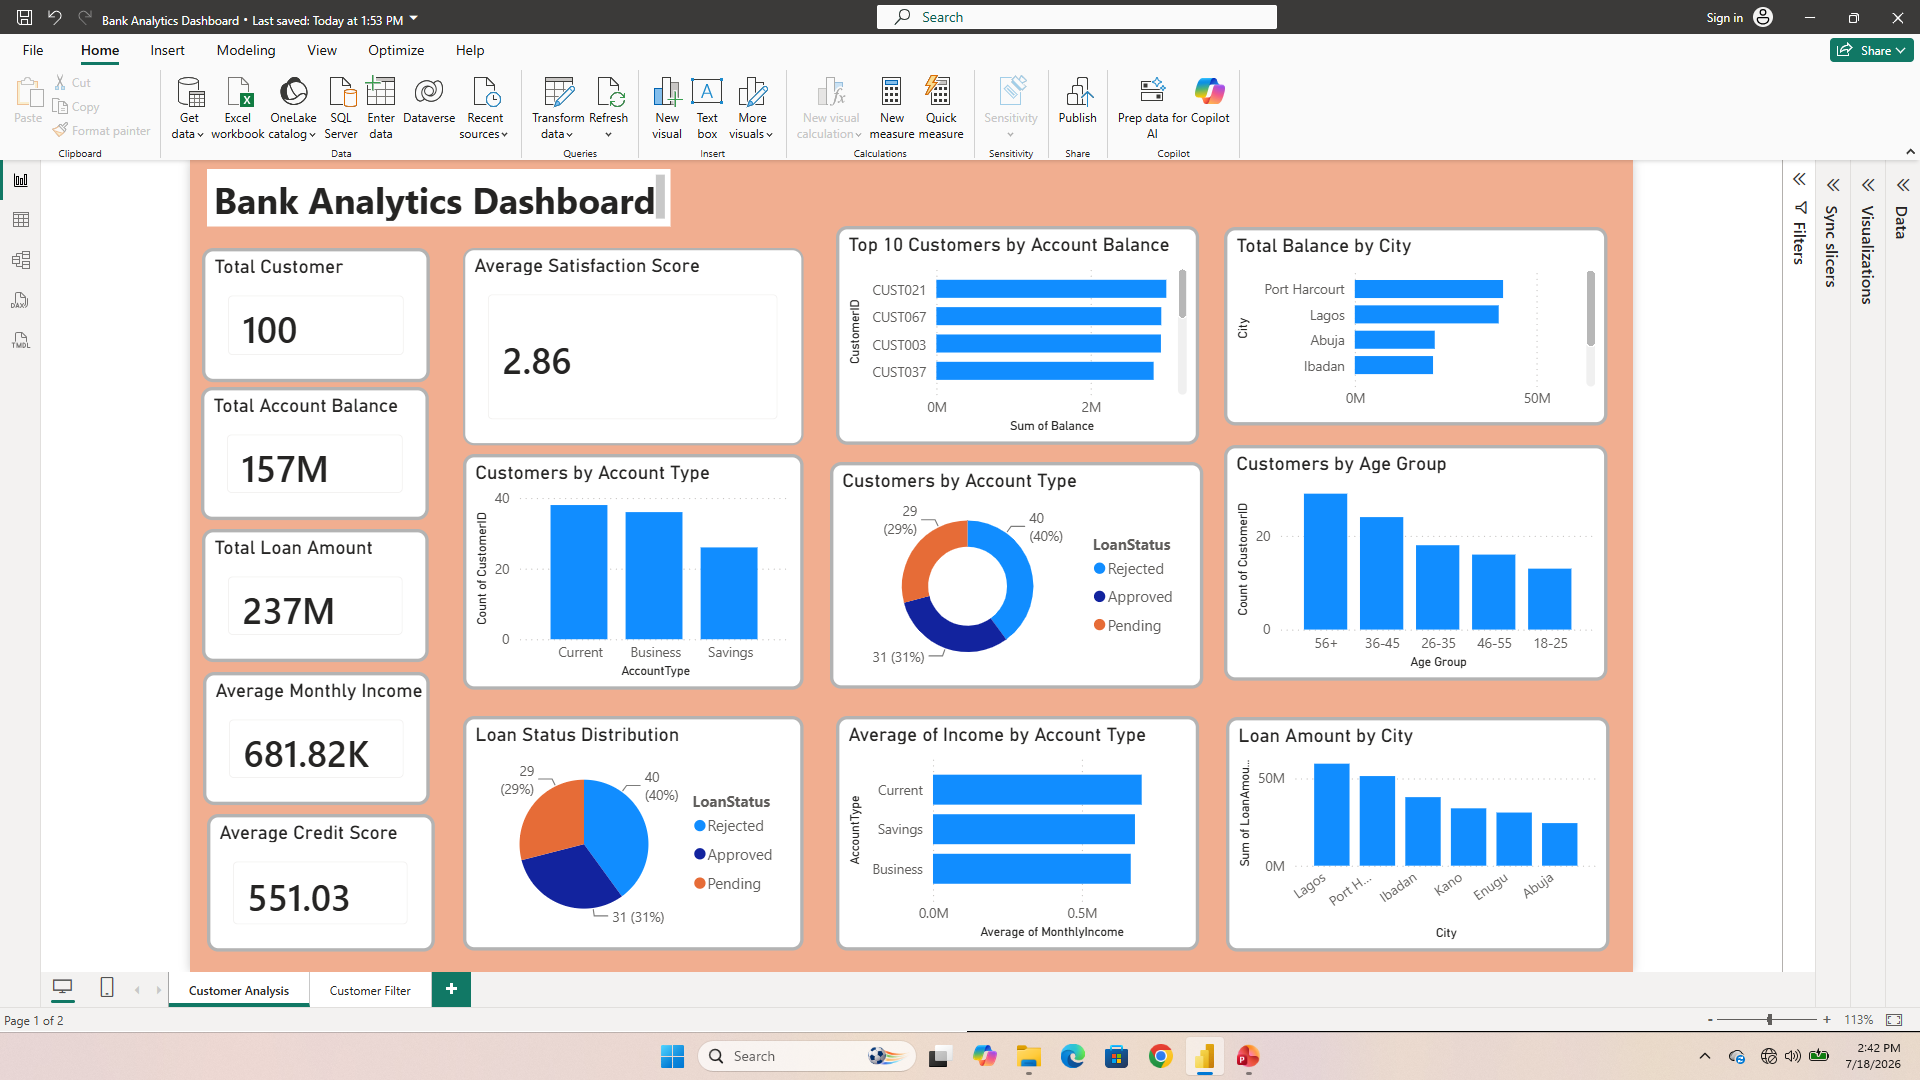

The dashboard page shown, as its layout file describes it:
{"tool":"powerbi","page":{"name":"Customer Analysis","canvas":[1280,720],"ordinal":0},"visuals":[{"type":"cardVisual","title":"Total Customer","fields":{"Data":["CountNonNull(Bank_Analytics.CustomerID)"]},"box":[10.8,77.6,202.4,118.9],"z":0},{"type":"cardVisual","title":"Total Account Balance","fields":{"Data":["Sum(Bank_Analytics.Balance)"]},"box":[9.8,201.4,202.4,117.9],"z":1000},{"type":"cardVisual","title":"Total Loan Amount","fields":{"Data":["Sum(Bank_Analytics.LoanAmount)"]},"box":[10.8,327.1,201.4,117.9],"z":2000},{"type":"cardVisual","title":"Average Monthly Income","fields":{"Data":["Avg(Bank_Analytics.MonthlyIncome)"]},"box":[11.8,453.8,201.4,117.9],"z":3000},{"type":"cardVisual","title":"Average Credit Score","fields":{"Data":["Avg(Bank_Analytics.CreditScore)"]},"box":[15,579.5,201.8,121.9],"z":4000},{"type":"cardVisual","title":"Average Satisfaction Score","fields":{"Data":["Avg(Bank_Analytics.SatisfactionScore)"]},"box":[241.7,77.6,301.6,174.9],"z":5000},{"type":"columnChart","title":"Customers by Account Type","fields":{"Y":["CountNonNull(Bank_Analytics.CustomerID)"],"Category":["Bank_Analytics.AccountType"]},"box":[241.7,260.3,301.6,209.2],"z":6000},{"type":"pieChart","title":" Loan Status Distribution","fields":{"Category":["Bank_Analytics.LoanStatus"],"Y":["CountNonNull(Bank_Analytics.CustomerID)"]},"box":[241.7,493.1,301.6,208.3],"z":7000},{"type":"barChart","title":"Total Balance by City","fields":{"Category":["Bank_Analytics.City"],"Y":["Sum(Bank_Analytics.Balance)"]},"box":[917,59.1,340.3,176.4],"z":8000},{"type":"columnChart","title":"Customers by Age Group","fields":{"Y":["CountNonNull(Bank_Analytics.CustomerID)"],"Category":["Bank_Analytics.Age Group"]},"box":[917,252.5,340.3,208.7],"z":9000},{"type":"clusteredColumnChart","title":"Loan Amount by City","fields":{"Category":["Bank_Analytics.City"],"Y":["Sum(Bank_Analytics.LoanAmount)"]},"box":[918.3,493.6,339.7,207.8],"z":10000},{"type":"barChart","title":"Average of Income by Account Type","fields":{"Category":["Bank_Analytics.AccountType"],"Y":["Avg(Bank_Analytics.MonthlyIncome)"]},"box":[572.7,493.1,322.2,208.3],"z":11000},{"type":"barChart","title":"Top 10 Customers by Account Balance","fields":{"Category":["Bank_Analytics.CustomerID"],"Y":["Sum(Bank_Analytics.Balance)"]},"box":[572.7,58.9,322.2,193.5],"z":12000},{"type":"donutChart","title":"Customers by Account Type","fields":{"Y":["CountNonNull(Bank_Analytics.CustomerID)"],"Category":["Bank_Analytics.LoanStatus"]},"box":[567.8,268.2,331.1,201.4],"z":13000},{"type":"textbox","box":[15.1,8,411.4,51.4],"z":14000}]}

Visuals, with their boxes on the page's 1280x720 design canvas (x1, y1, x2, y2). These are canvas units, not pixel positions in the 1920x1080 screenshot, which may show the page scaled, cropped or inside an application window:
"Total Customer" cardVisual: Rect(11, 78, 213, 196)
"Total Account Balance" cardVisual: Rect(10, 201, 212, 319)
"Total Loan Amount" cardVisual: Rect(11, 327, 212, 445)
"Average Monthly Income" cardVisual: Rect(12, 454, 213, 572)
"Average Credit Score" cardVisual: Rect(15, 580, 217, 701)
"Average Satisfaction Score" cardVisual: Rect(242, 78, 543, 252)
"Customers by Account Type" columnChart: Rect(242, 260, 543, 470)
" Loan Status Distribution" pieChart: Rect(242, 493, 543, 701)
"Total Balance by City" barChart: Rect(917, 59, 1257, 236)
"Customers by Age Group" columnChart: Rect(917, 252, 1257, 461)
"Loan Amount by City" clusteredColumnChart: Rect(918, 494, 1258, 701)
"Average of Income by Account Type" barChart: Rect(573, 493, 895, 701)
"Top 10 Customers by Account Balance" barChart: Rect(573, 59, 895, 252)
"Customers by Account Type" donutChart: Rect(568, 268, 899, 470)
textbox: Rect(15, 8, 426, 59)
